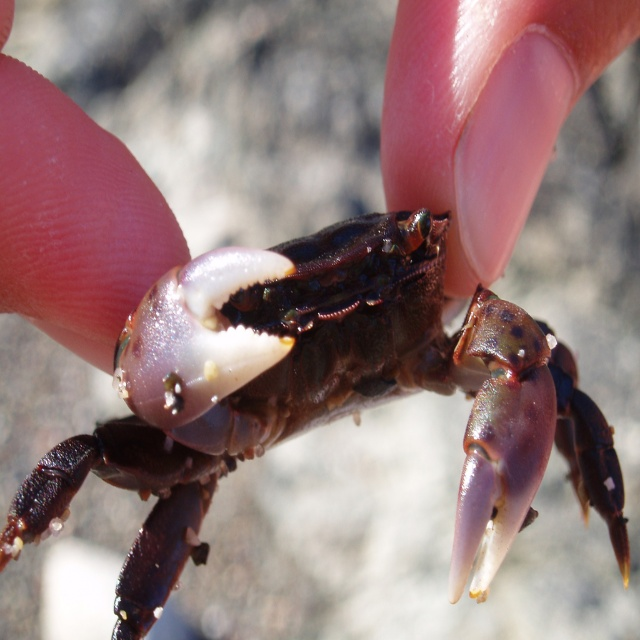Crab: (0, 208, 631, 640)
